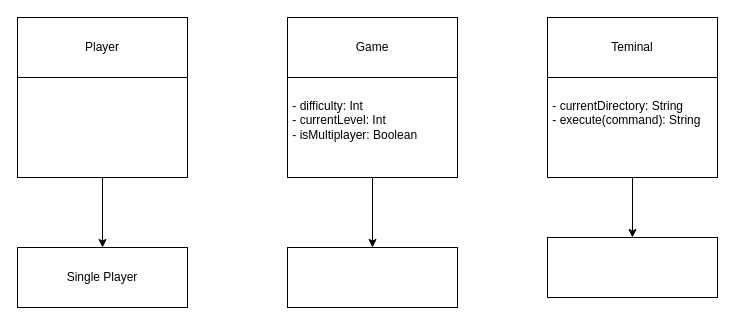
This 735x325 diagram has some shape labels left out. The shapes that lost their labels are listed below. From the top down, each one's centre as x and y in pixels, then its label:
At point 102,127: "- name: String - score: Int - achievements: Dictionary".
At point 372,277: "Multiplayer Gamesession".
At point 632,267: "Single Terminal".
